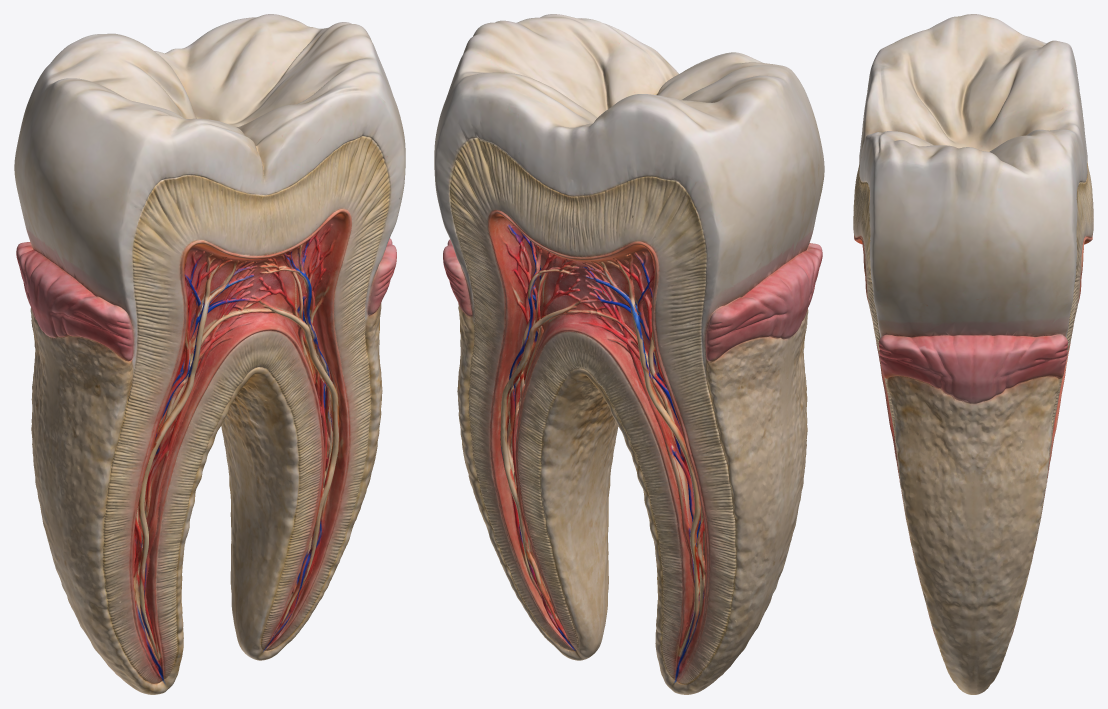
File: human-tooth.glb
3 renders of one model, left to right at view 1: azimuth 30°, elevation 25°; view 2: azimuth 150°, elevation 25°; view 3: azimuth 270°, elevation 25°, orthographic. The views are drawn at different scales.
Parts seen in each view (by area): view 1: human-tooth; view 2: human-tooth; view 3: human-tooth.
Boxes of the visible parts, left/top/right/bottom form: human-tooth: left=14, top=14, right=405, bottom=694; human-tooth: left=434, top=14, right=824, bottom=694; human-tooth: left=853, top=14, right=1093, bottom=694.
Bounding box in the file's own units: 0.0126 × 0.022 × 0.008.
Materials: 1 (1 with a texture image).
